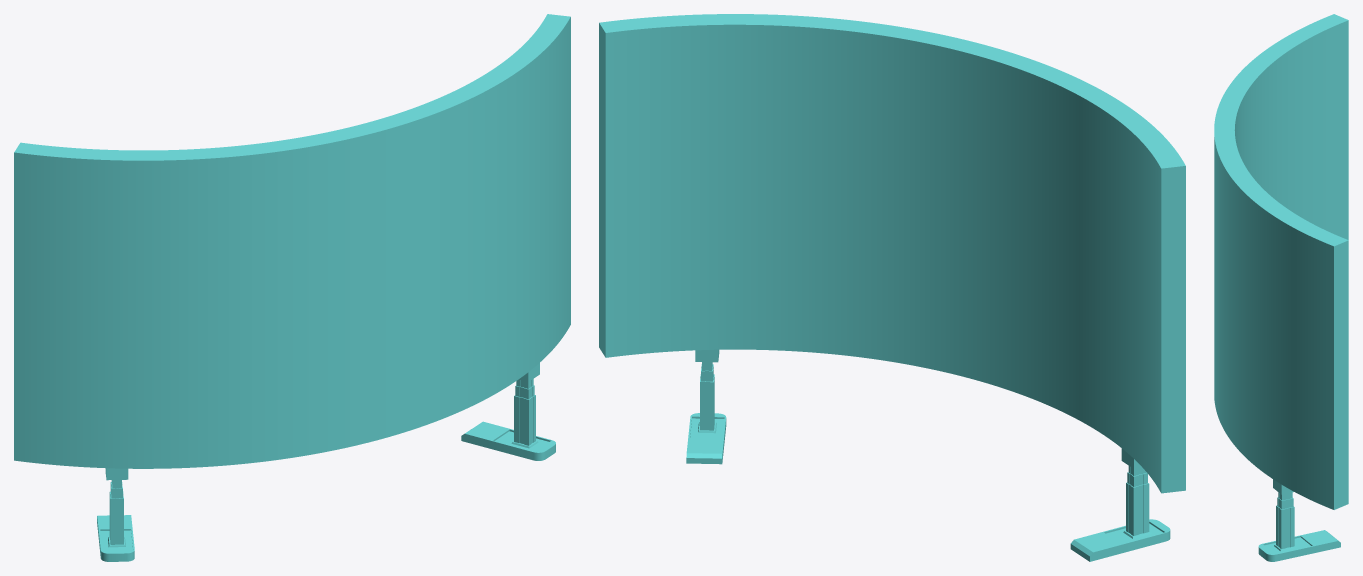
File: Control-board.fbx
3 views of the same model, side by side, from view 1: azimuth 30°, elevation 25°; view 2: azimuth 150°, elevation 25°; view 3: azimuth 270°, elevation 25° (orthographic). The views are drawn at different scales.
Parts seen in each view (by area): view 1: Screen, Table-Leg; view 2: Screen, Table-Leg; view 3: Screen, Table-Leg.
Part boxes in pixels (<box>): Screen: <box>14,14,570,468</box>; Table-Leg: <box>97,363,555,561</box>; Screen: <box>599,14,1185,493</box>; Table-Leg: <box>686,349,1170,561</box>; Screen: <box>1214,14,1348,509</box>; Table-Leg: <box>1258,479,1340,561</box>.
Bounding box in the file's own units: 531 × 359 × 130.
